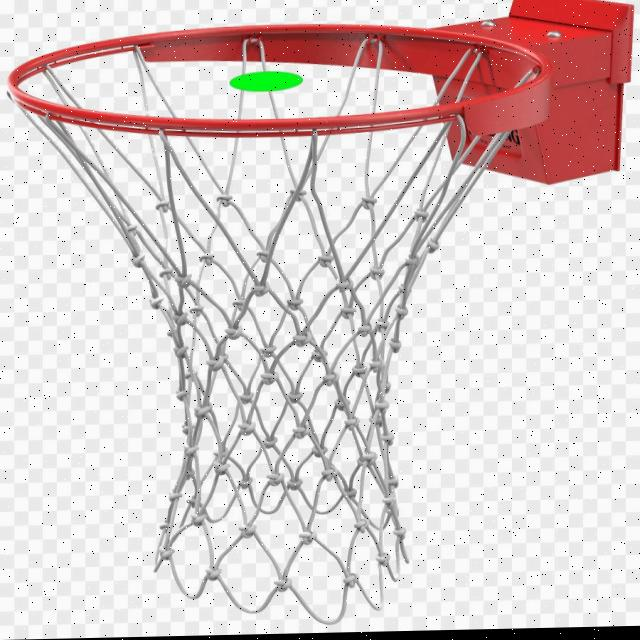hoop: (7, 18, 552, 630)
